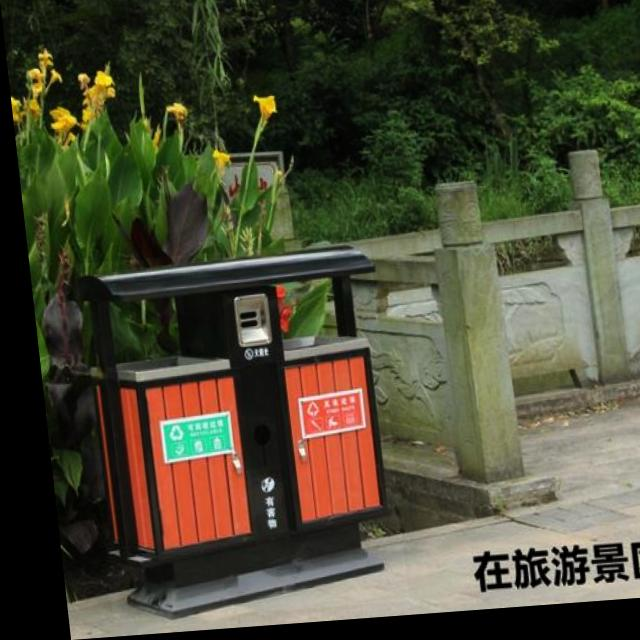garbage_bin: (67, 247, 395, 623)
